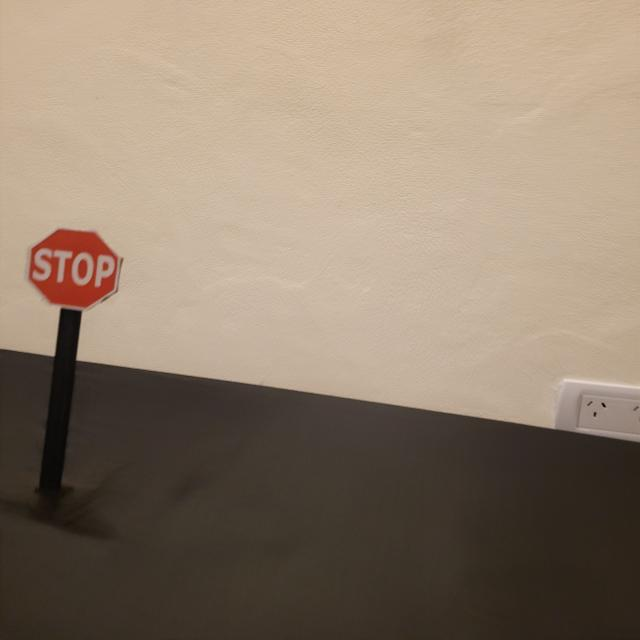stop: (24, 226, 124, 313)
